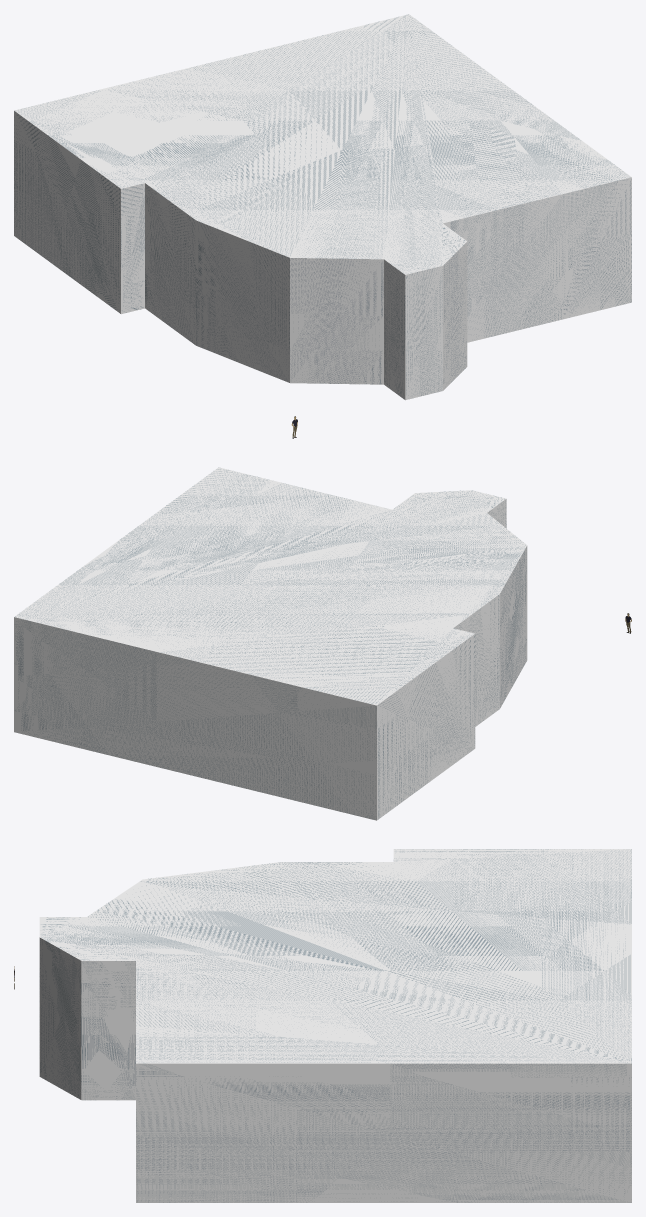
File: Palmer Building.dae
3 views of the same model, one above another, from view 1: azimuth 30°, elevation 25°; view 2: azimuth 150°, elevation 25°; view 3: azimuth 270°, elevation 25° (orthographic). The views are drawn at different scales.
Parts seen in each view (by area): view 1: SketchUp; view 2: SketchUp; view 3: SketchUp.
Part boxes in pixels (x1=…): SketchUp: x1=14, y1=14, x2=631, y2=400; SketchUp: x1=14, y1=467, x2=527, y2=820; SketchUp: x1=39, y1=849, x2=631, y2=1202.
Size of the model in its own units: 1307 by 1592 by 396.
